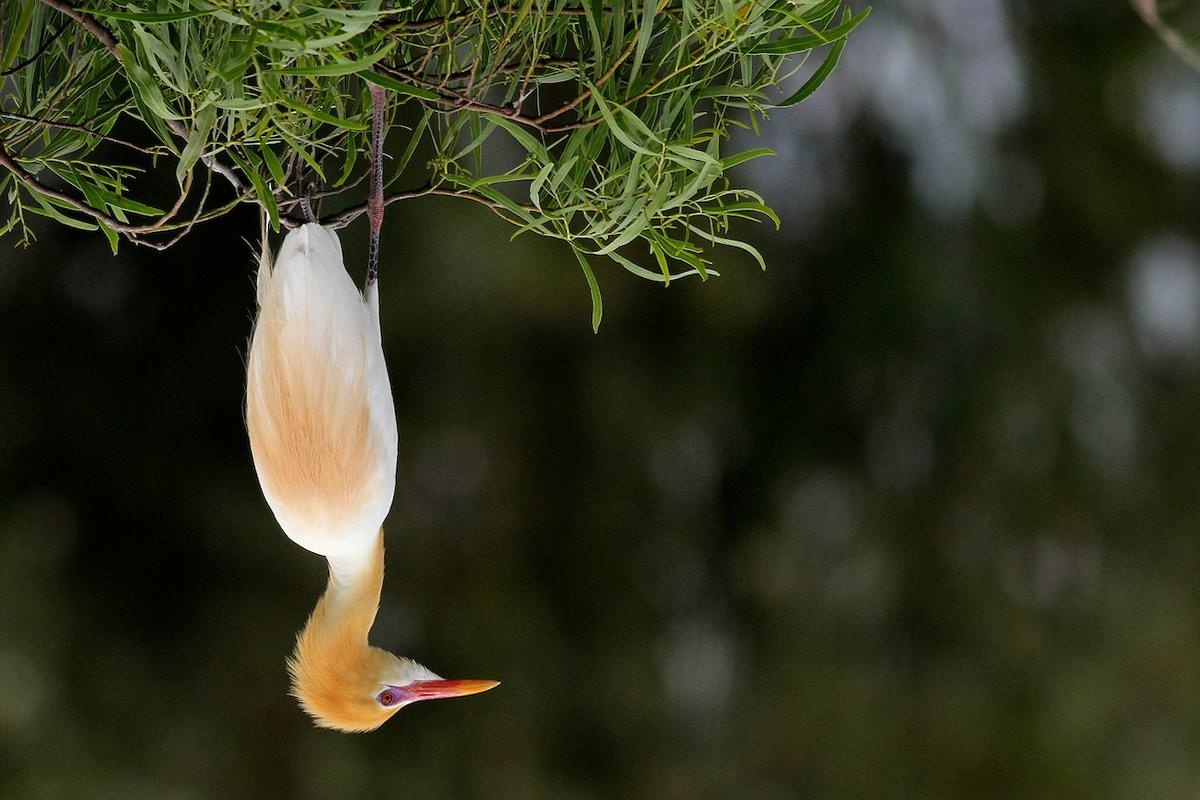egret: (151, 57, 543, 764)
